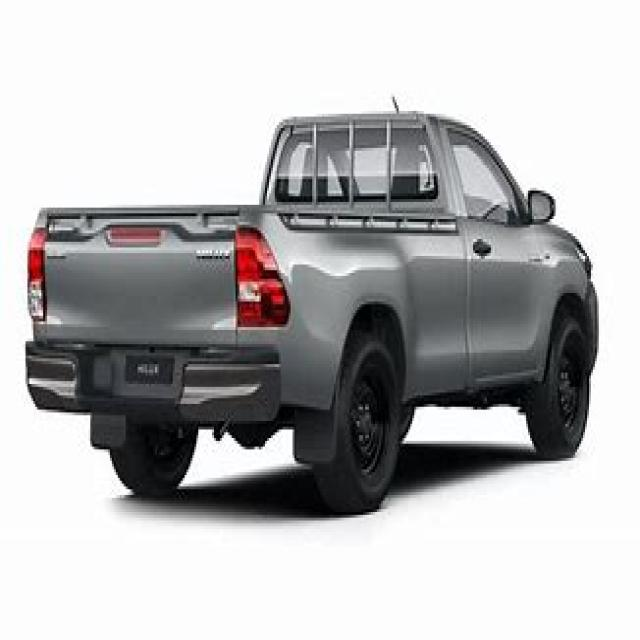light_vehicle: (13, 88, 610, 521)
